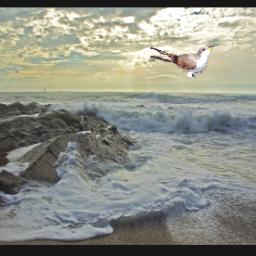Cuckoo: (152, 46, 215, 79)
